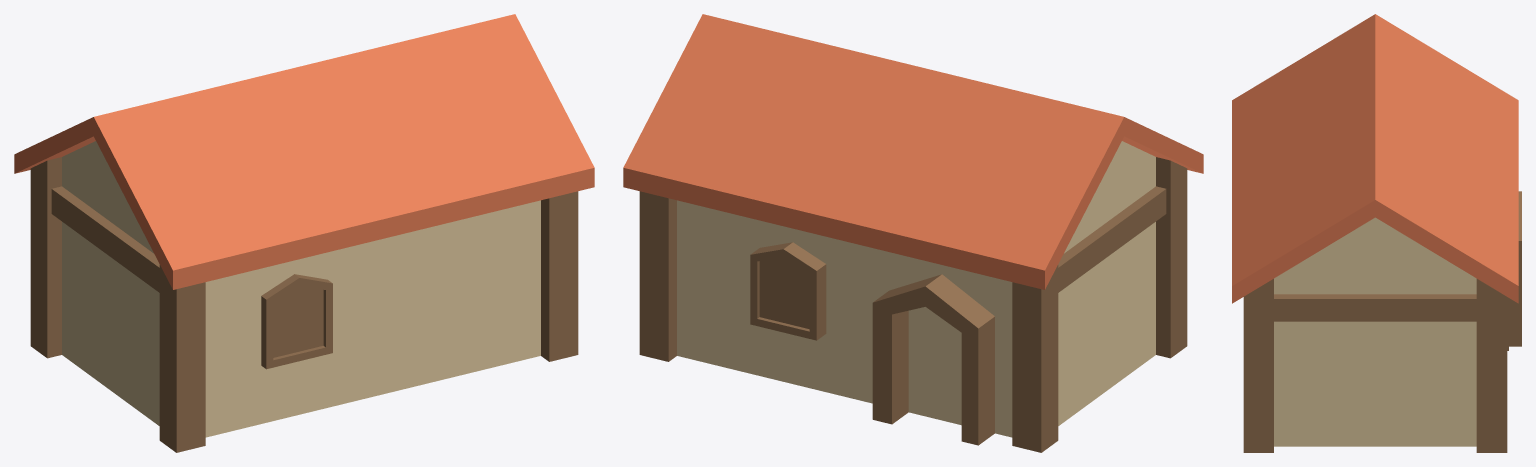
File: house_1.fbx
3 views of the same model, side by side, from view 1: azimuth 30°, elevation 25°; view 2: azimuth 150°, elevation 25°; view 3: azimuth 270°, elevation 25° (orthographic). The views are drawn at different scales.
Visible parts, largest first — view 1: Cube.009; view 2: Cube.009; view 3: Cube.009.
Boxes of the visible parts, bbox=[...] form: Cube.009: bbox=[14, 14, 594, 452]; Cube.009: bbox=[623, 14, 1203, 452]; Cube.009: bbox=[1232, 14, 1521, 452].
Bounding box in the file's own units: 226 × 146 × 149.
